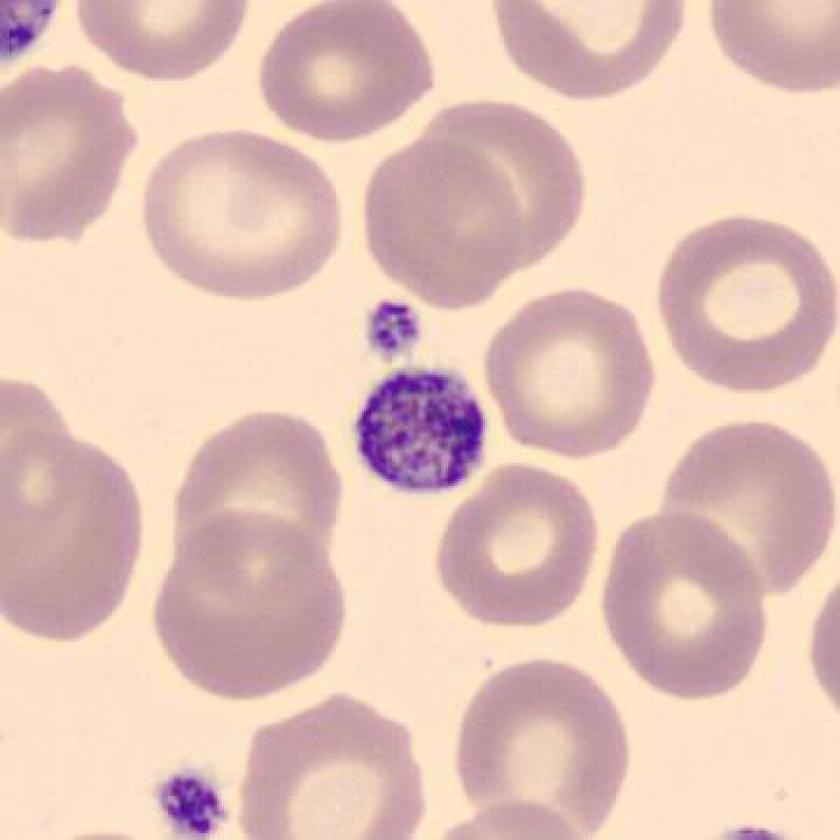platelets: (337, 360, 510, 508), (144, 751, 249, 840), (354, 284, 431, 379)
